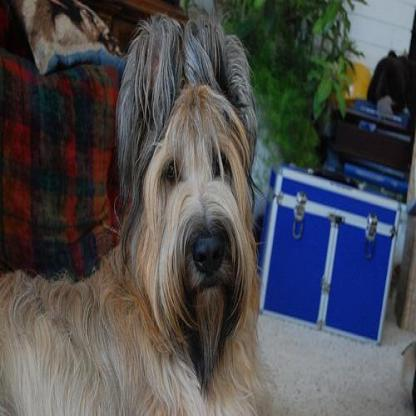briard: (0, 14, 266, 412)
